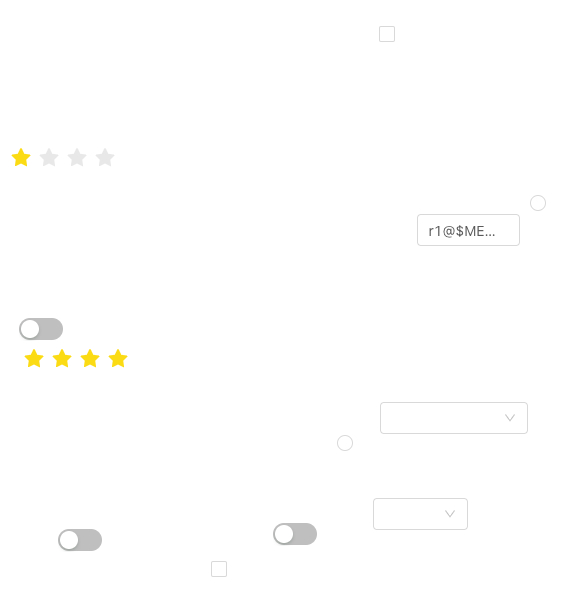Checkbox: (379, 23, 395, 44), (211, 558, 227, 579)
Input: (417, 214, 520, 246)
Radio: (337, 432, 353, 452), (530, 192, 546, 212)
Rate: (11, 141, 131, 173), (24, 342, 144, 374)
Select: (380, 402, 528, 434), (373, 498, 468, 530)
Switch: (273, 522, 317, 546), (58, 528, 102, 552), (19, 317, 63, 341)
